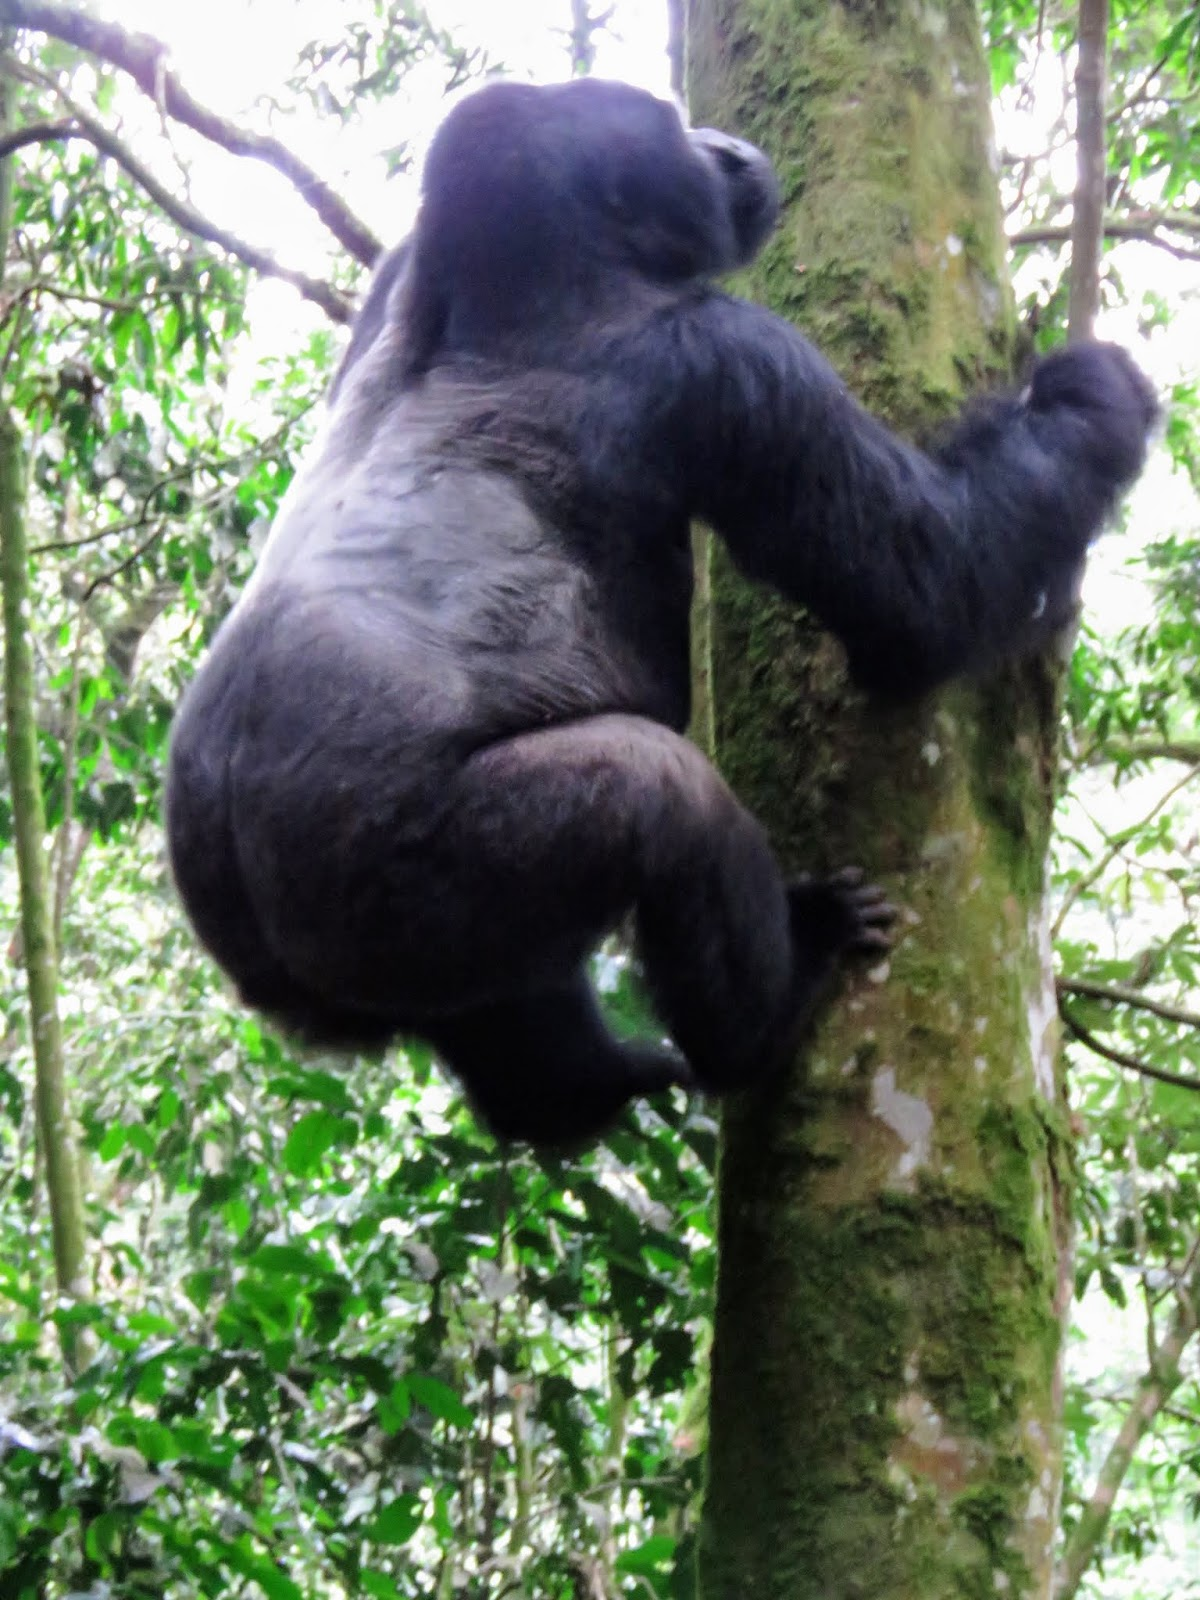Goriila: (126, 71, 1163, 1211)
